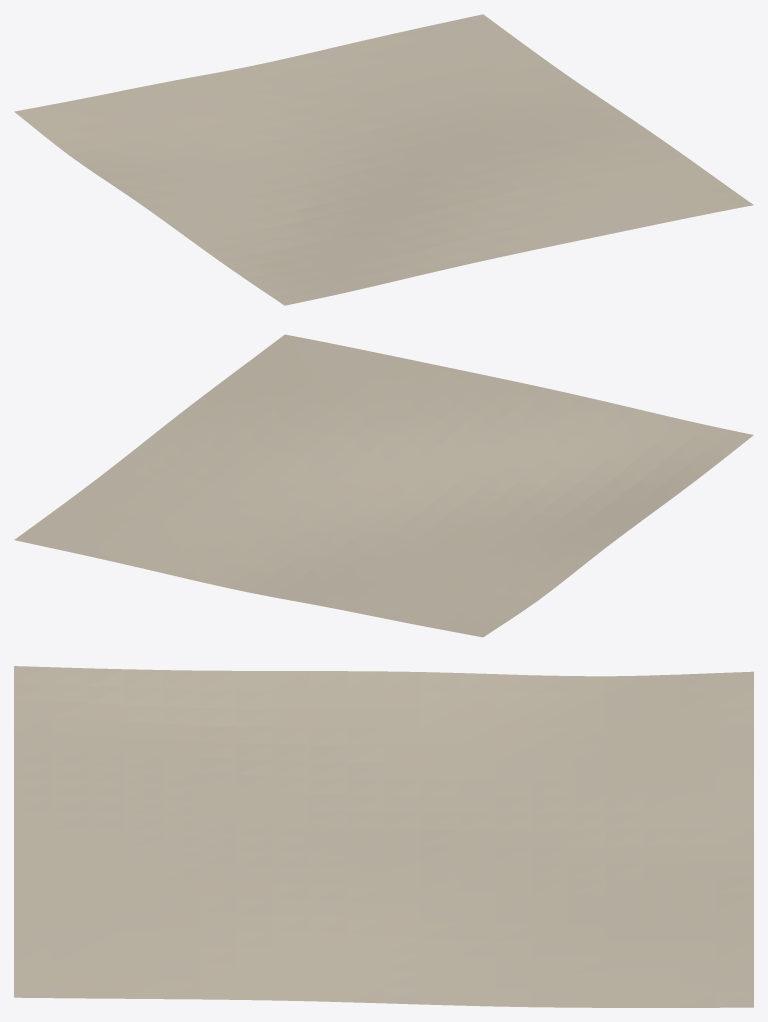
Rendered from bolak_-14_12.glb.
3 views of the same model, one above another, from view 1: azimuth 30°, elevation 25°; view 2: azimuth 150°, elevation 25°; view 3: azimuth 270°, elevation 25° (orthographic). The views are drawn at different scales.
Visible parts, largest first — view 1: Yer_Tuproq-col; view 2: Yer_Tuproq-col; view 3: Yer_Tuproq-col.
Part boxes in pixels (x1,y1,x2,y2): Yer_Tuproq-col: (14,14,753,305); Yer_Tuproq-col: (14,334,753,637); Yer_Tuproq-col: (14,666,753,1007).
Bounding box in the file's own units: 400 × 17.41 × 400.
